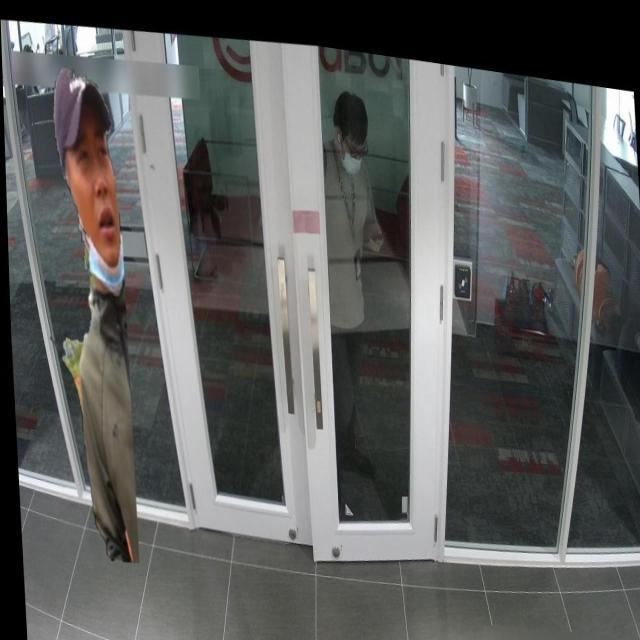hairnet: (71, 122, 126, 296)
